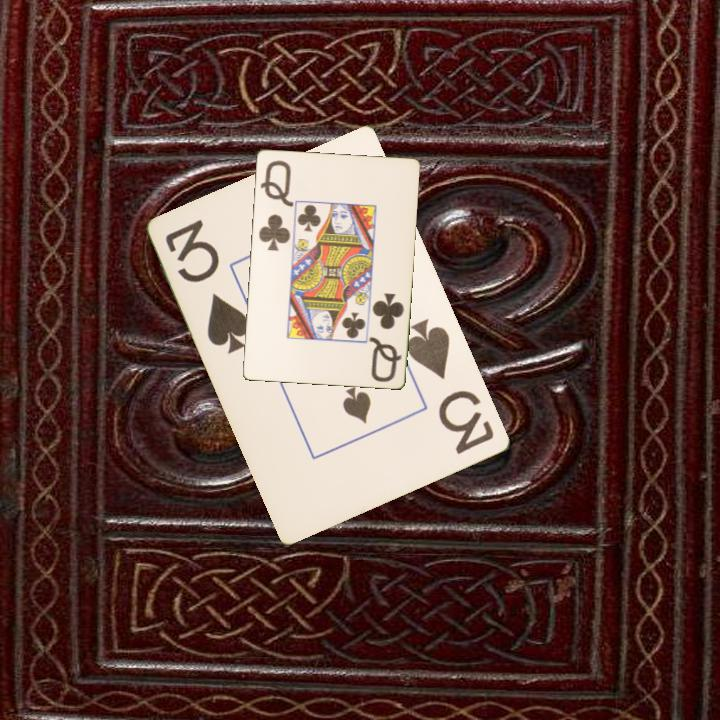3s: (403, 315, 498, 458), (162, 216, 254, 357)
Qc: (255, 156, 295, 254), (366, 289, 406, 385)
